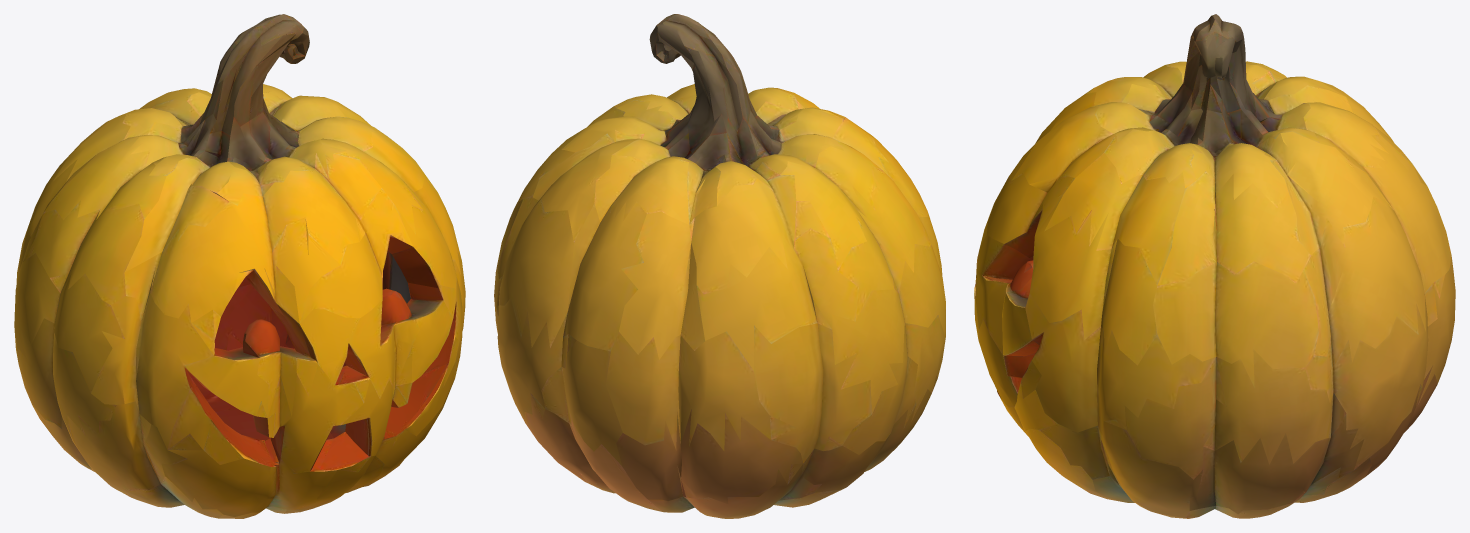
The model's file is pumpkin.glb.
The picture shows the model from 3 angles, left to right: view 1: azimuth 30°, elevation 25°; view 2: azimuth 150°, elevation 25°; view 3: azimuth 270°, elevation 25°; orthographic projection. The views are drawn at different scales.
Size of the model in its own units: 1.73 by 1.9 by 1.75.
Materials: 1 (1 with a texture image).
